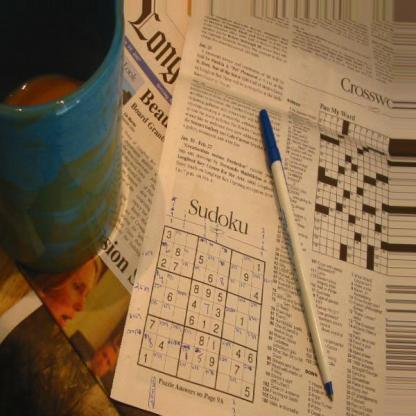sudoku: (133, 223, 270, 407)
